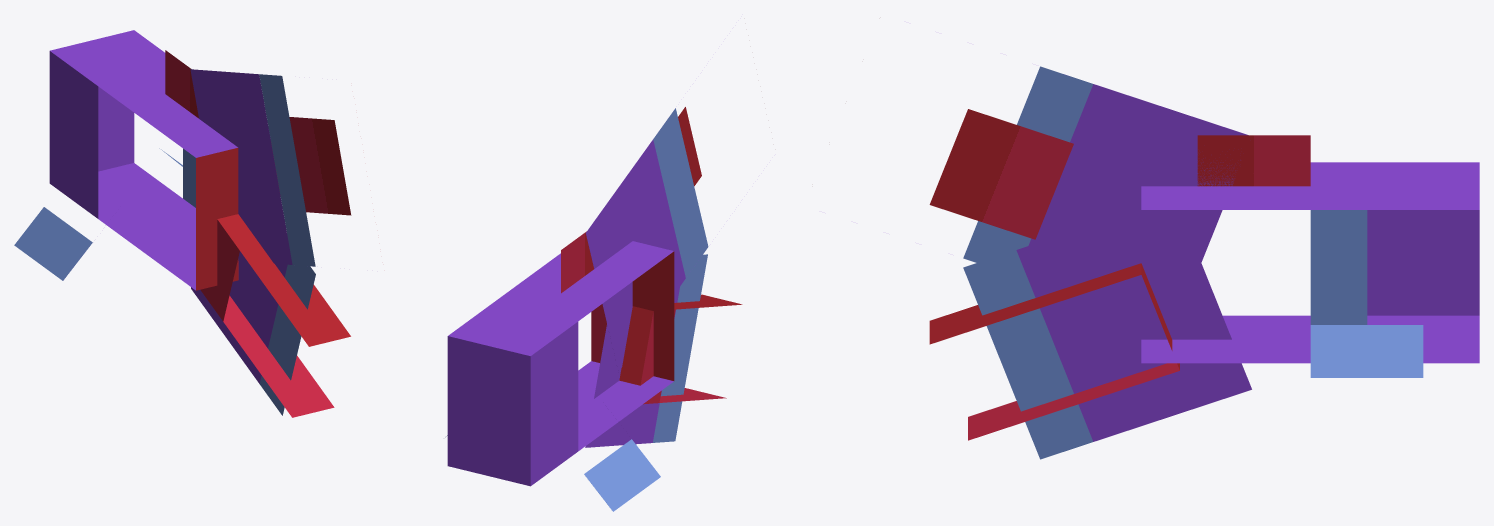
Rendered from tropical_fish (1).fbx.
The picture shows the model from 3 angles, left to right: view 1: azimuth 30°, elevation 25°; view 2: azimuth 150°, elevation 25°; view 3: azimuth 270°, elevation 25°; orthographic projection. The views are drawn at different scales.
Parts seen in each view (by area): view 1: c724c8bd-8c0c-3a6d-cf9c-a4d1a0bbebd8_1, d2f21c17-bd1f-dfe8-40f6-e131e8a586dd_3, c55c76e7-1907-d962-5885-074535c78574_5, d4a8d100-af02-8007-f97f-e3657d38cddc_6, f02fc221-e10a-fd6b-811e-d7535617e753_2, 1acf40be-cbad-ddc2-ed25-df716efb5e9e_8, f7ff855a-128f-ca81-b061-b61cac5d1ffd_0; view 2: c724c8bd-8c0c-3a6d-cf9c-a4d1a0bbebd8_1, d2f21c17-bd1f-dfe8-40f6-e131e8a586dd_3, d4a8d100-af02-8007-f97f-e3657d38cddc_6, c55c76e7-1907-d962-5885-074535c78574_5, 1acf40be-cbad-ddc2-ed25-df716efb5e9e_8, f7ff855a-128f-ca81-b061-b61cac5d1ffd_0, f02fc221-e10a-fd6b-811e-d7535617e753_2; view 3: c724c8bd-8c0c-3a6d-cf9c-a4d1a0bbebd8_1, d4a8d100-af02-8007-f97f-e3657d38cddc_6, d2f21c17-bd1f-dfe8-40f6-e131e8a586dd_3, f02fc221-e10a-fd6b-811e-d7535617e753_2, c55c76e7-1907-d962-5885-074535c78574_5, d06d780a-3ec1-6501-7797-7552063c219d_10, f7ff855a-128f-ca81-b061-b61cac5d1ffd_0.
Part boxes in pixels (x1,y1,x2,y2): c724c8bd-8c0c-3a6d-cf9c-a4d1a0bbebd8_1: (49,30,238,290); d2f21c17-bd1f-dfe8-40f6-e131e8a586dd_3: (190,69,315,266); c55c76e7-1907-d962-5885-074535c78574_5: (200,214,350,417); d4a8d100-af02-8007-f97f-e3657d38cddc_6: (191,261,315,415); f02fc221-e10a-fd6b-811e-d7535617e753_2: (289,117,351,215); 1acf40be-cbad-ddc2-ed25-df716efb5e9e_8: (14,207,92,280); f7ff855a-128f-ca81-b061-b61cac5d1ffd_0: (165,50,198,118); c724c8bd-8c0c-3a6d-cf9c-a4d1a0bbebd8_1: (447,241,674,486); d2f21c17-bd1f-dfe8-40f6-e131e8a586dd_3: (586,108,708,371); d4a8d100-af02-8007-f97f-e3657d38cddc_6: (585,254,707,447); c55c76e7-1907-d962-5885-074535c78574_5: (619,294,742,404); 1acf40be-cbad-ddc2-ed25-df716efb5e9e_8: (584,439,660,511); f7ff855a-128f-ca81-b061-b61cac5d1ffd_0: (561,231,593,293); f02fc221-e10a-fd6b-811e-d7535617e753_2: (678,107,701,185); c724c8bd-8c0c-3a6d-cf9c-a4d1a0bbebd8_1: (1141,162,1479,363); d4a8d100-af02-8007-f97f-e3657d38cddc_6: (963,209,1251,459); d2f21c17-bd1f-dfe8-40f6-e131e8a586dd_3: (963,66,1248,262); f02fc221-e10a-fd6b-811e-d7535617e753_2: (929,109,1073,239); c55c76e7-1907-d962-5885-074535c78574_5: (929,263,1179,440); d06d780a-3ec1-6501-7797-7552063c219d_10: (1310,325,1423,377); f7ff855a-128f-ca81-b061-b61cac5d1ffd_0: (1197,135,1310,186).
Size of the model in its own units: 4.83 by 9.74 by 11.98.
Materials: 1 (1 with a texture image).
